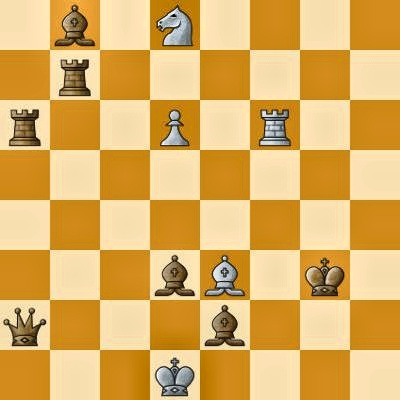black-bishop: (50, 0, 100, 50), (150, 250, 200, 300), (200, 300, 250, 350)
black-king: (300, 250, 350, 300)
black-queen: (0, 300, 50, 350)
black-rook: (50, 50, 100, 100), (0, 100, 50, 150)
white-bishop: (200, 250, 250, 300)
white-king: (150, 350, 200, 400)
white-knight: (150, 0, 200, 50)
white-pawn: (150, 100, 200, 150)
white-rook: (250, 100, 300, 150)
